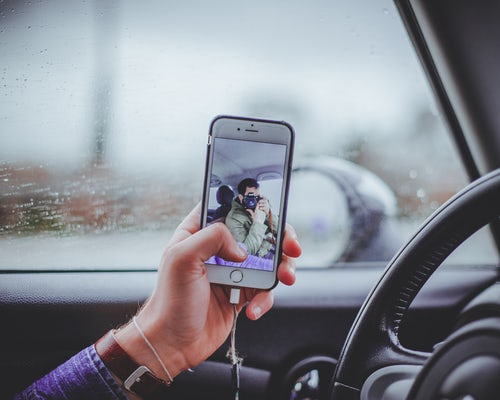phone: (198, 115, 297, 294)
